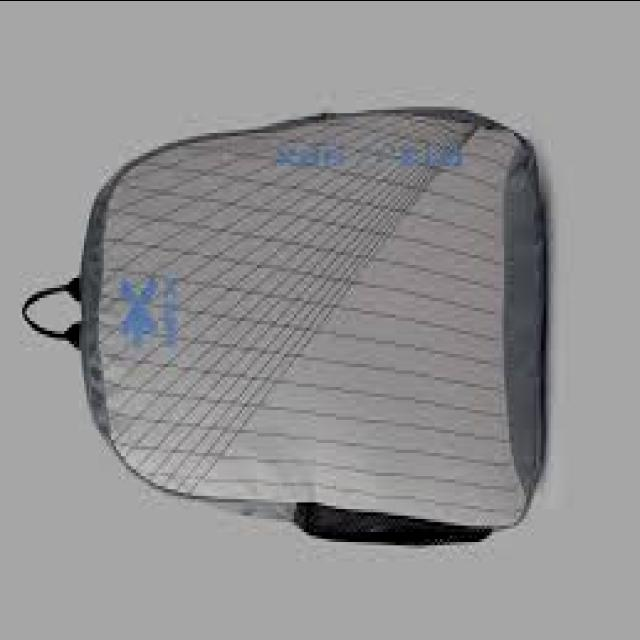backpack: (21, 107, 547, 549)
